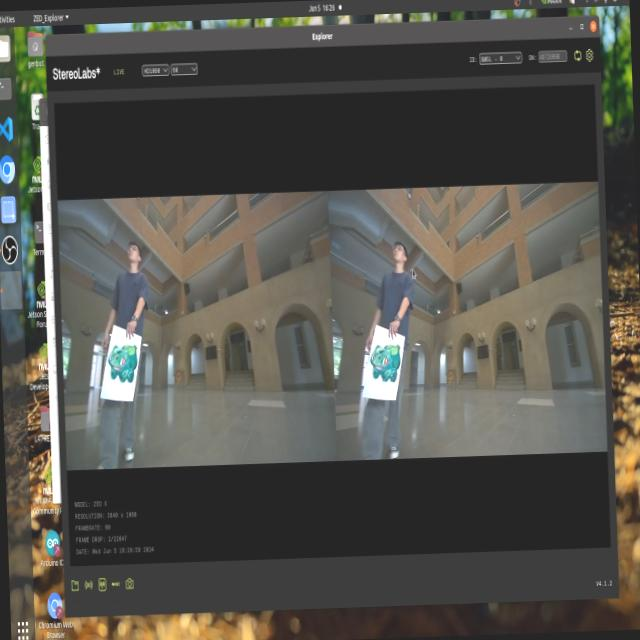green: (369, 334, 399, 389), (112, 337, 140, 383)
